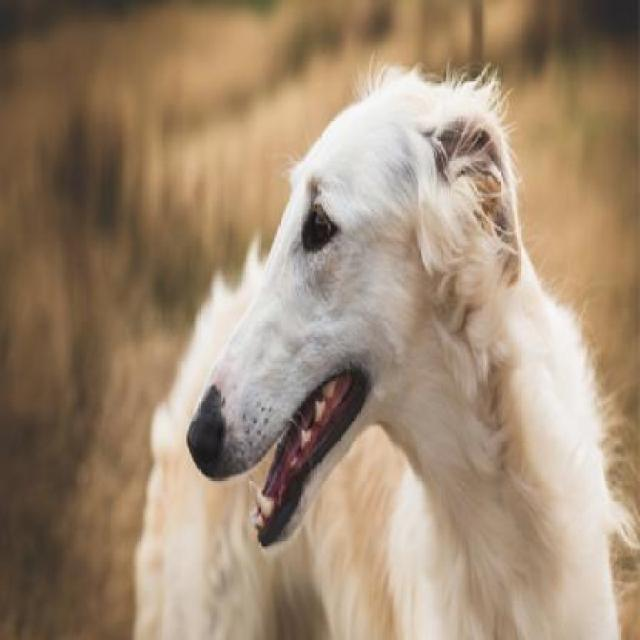animals: (167, 41, 588, 619)
